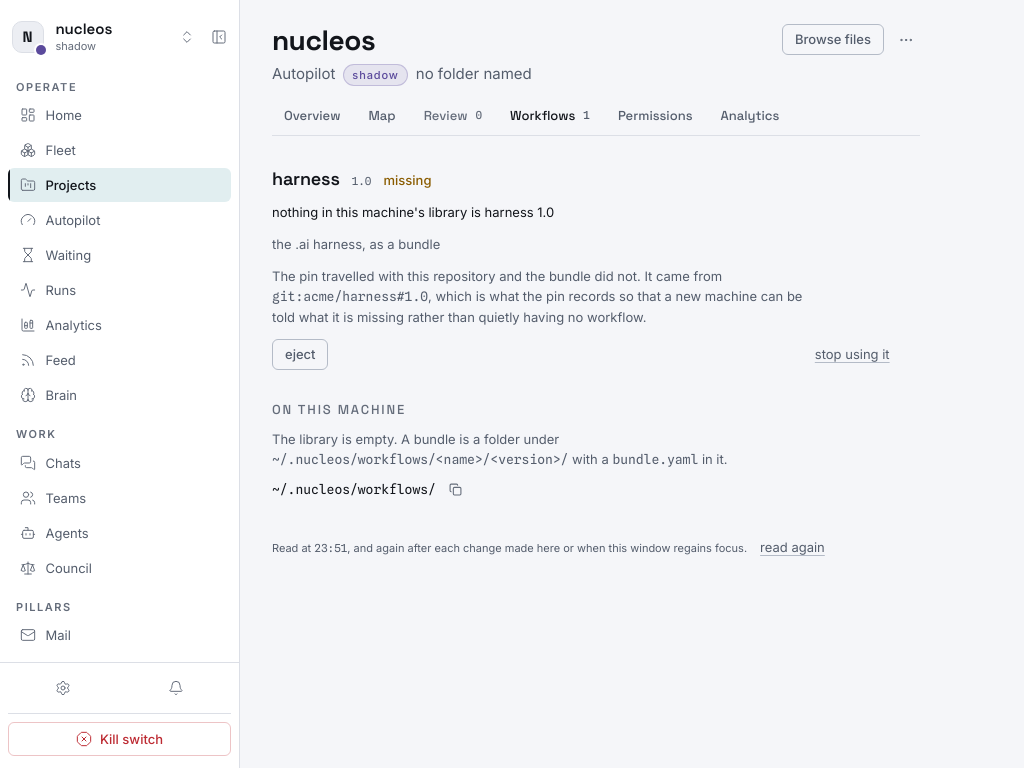
Test case: the workflows mode › names where a missing bundle came from instead of showing nothing
Expected: the text "git:acme/harness#1.0" is shown, [272, 288, 428, 304]
Note: And there is nothing to open in a library that does not have it.
Click the button "eject" at [300, 354], box [272, 339, 328, 370]
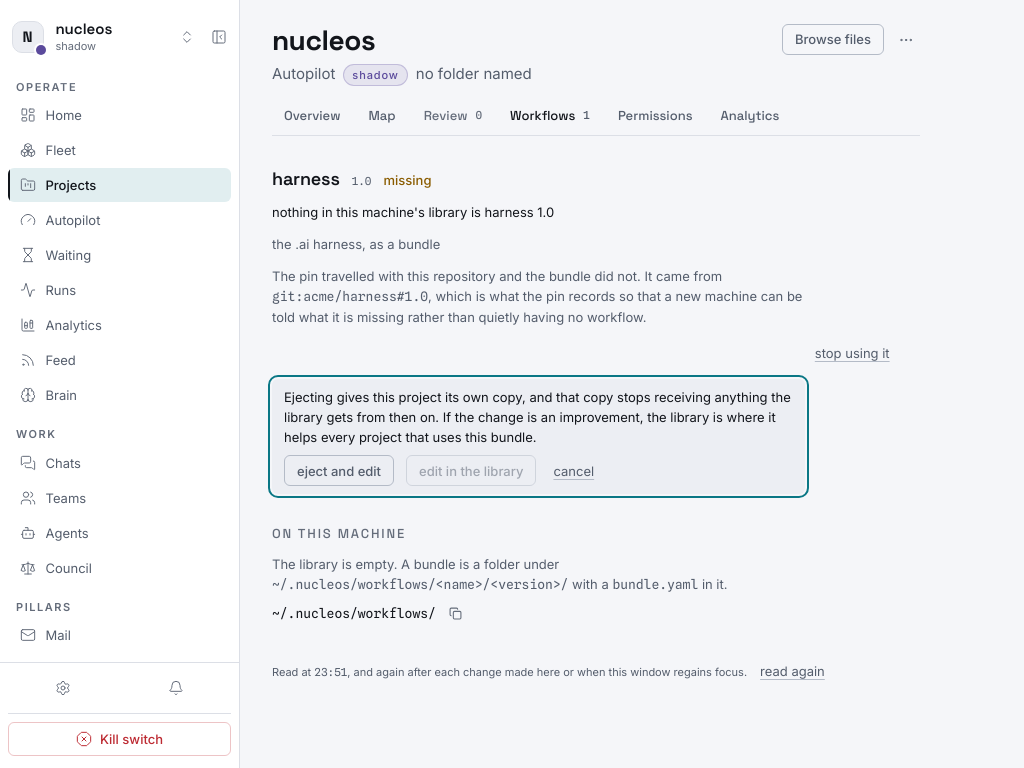
Expected: the button "edit in the library" is disabled, [406, 455, 536, 486]
